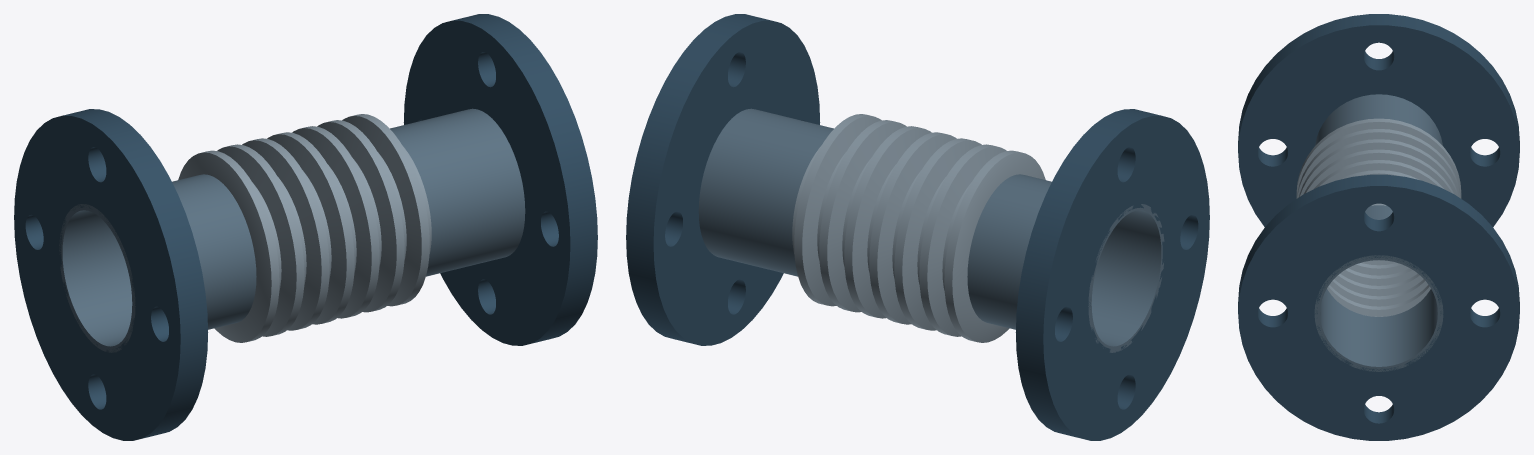
Rendered from flan-dn65-L240-D76-f-o180.glb.
3 views of the same model, side by side, from view 1: azimuth 30°, elevation 25°; view 2: azimuth 150°, elevation 25°; view 3: azimuth 270°, elevation 25° (orthographic). The views are drawn at different scales.
Visible parts, largest first — view 1: homut_flanec_1, prokladka_silfon_1, homut_flanec_2, patrubok_1, patrubok_2; view 2: homut_flanec_1, prokladka_silfon_1, homut_flanec_2, patrubok_1, patrubok_2; view 3: homut_flanec_2, homut_flanec_1, prokladka_silfon_1, patrubok_2, patrubok_1.
Boxes of the visible parts, x1=… form: homut_flanec_1: x1=14, y1=109, x2=208, y2=440; prokladka_silfon_1: x1=178, y1=114, x2=431, y2=342; homut_flanec_2: x1=403, y1=14, x2=597, y2=345; patrubok_1: x1=59, y1=174, x2=256, y2=352; patrubok_2: x1=390, y1=108, x2=525, y2=276; homut_flanec_1: x1=1015, y1=109, x2=1209, y2=440; prokladka_silfon_1: x1=792, y1=114, x2=1045, y2=342; homut_flanec_2: x1=626, y1=14, x2=820, y2=345; patrubok_1: x1=967, y1=174, x2=1164, y2=352; patrubok_2: x1=698, y1=108, x2=833, y2=276; homut_flanec_2: x1=1238, y1=174, x2=1519, y2=440; homut_flanec_1: x1=1238, y1=14, x2=1519, y2=226; prokladka_silfon_1: x1=1296, y1=118, x2=1461, y2=316; patrubok_2: x1=1314, y1=205, x2=1443, y2=371; patrubok_1: x1=1315, y1=94, x2=1442, y2=145.
Bounding box in the file's own units: 240 × 166 × 166.
